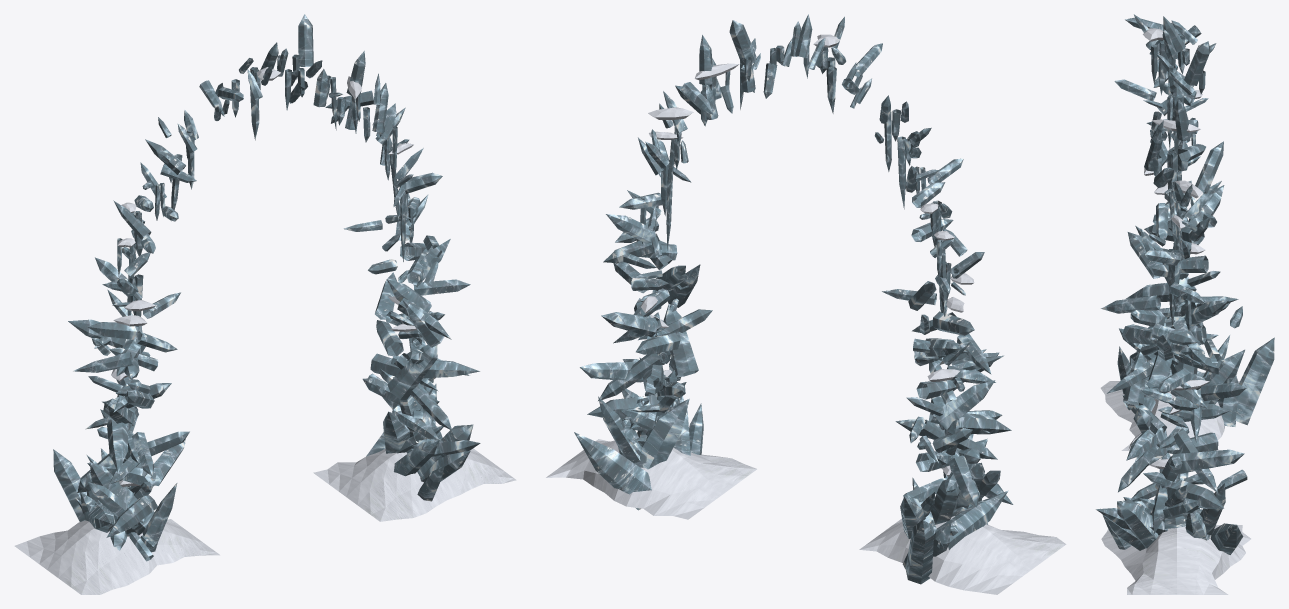
Rendered from lm_veil_rime.glb.
3 views of the same model, side by side, from view 1: azimuth 30°, elevation 25°; view 2: azimuth 150°, elevation 25°; view 3: azimuth 270°, elevation 25° (orthographic). The views are drawn at different scales.
Visible parts, largest first — view 1: lm_veil_rime; view 2: lm_veil_rime; view 3: lm_veil_rime.
Part boxes in pixels (x1,y1,x2,y2): lm_veil_rime: [14, 14, 516, 594]; lm_veil_rime: [546, 14, 1066, 594]; lm_veil_rime: [1096, 14, 1274, 594].
Bounding box in the file's own units: 5.2 × 5.5 × 1.84.
Materials: 1 (1 with a texture image).
